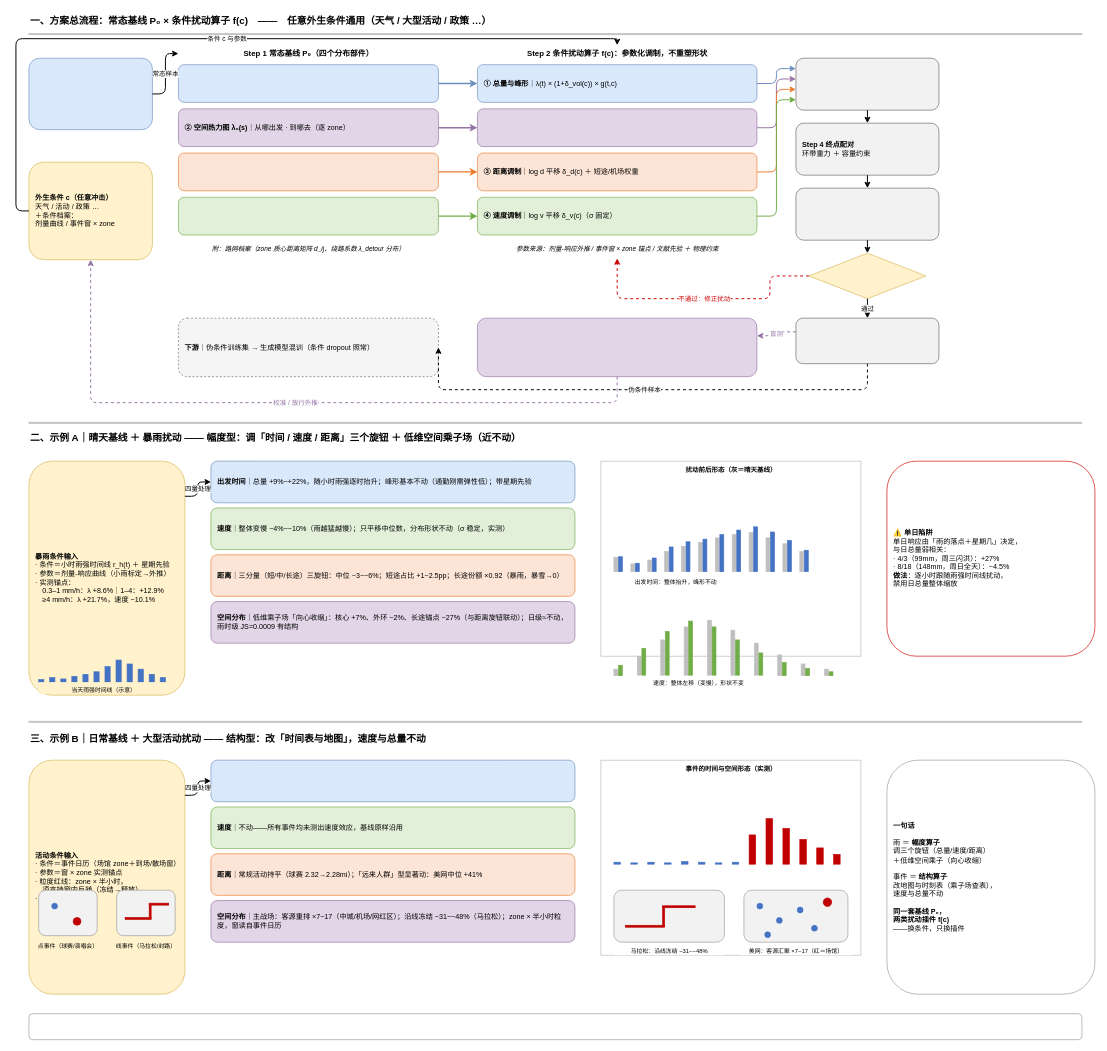
The diagram is 1107 pixels wide and 1051 high, and some of its shapes have lost their labels. The shapes that lost their labels are listed below. From the top down, each one's centre as x and y in pixels, then its label:
At (90,94): "常态行程大数据 时刻 / 起终点 / 里程 / 时长 （例：纽约 TLC 2.61 亿行）".
At (308,83): "① 时间节律 λ₀(t) ｜何时出发（周内×小时剖面）".
At (867,84): "Step 3 采样合成 t, s, d, v → dur=d/v（三角一致）".
At (617,127): "② 乘子场 γ(s,c) ｜雨＝低维向心收缩（核心+7%/锚点−27%）；事件＝查表；崩溃＝挖洞".
At (308,171): "③ 距离分布 P₀(d) ｜走多远（多峰混合分布）".
At (308,216): "④ 速度分布 P₀(v|t) ｜多快（中位数随时刻，形状稳定）".
At (867,214): "Step 5 三道闸 三角一致 / 容量 / 分布 sanity".
At (867,276): "通过？".
At (617,347): "替身验证 ｜用可观测条件盲测（四量 KS/JS ＋ 总量 MAPE） 通过才放行外推；空间检验须做「雨时级」（日级会洗掉信号）".
At (867,341): "输出：条件 c 下的轨迹集 （附外推置信区间）".
At (392,781): "出发时间 ｜总量几乎不动（球赛 +2%）；窗内剧变：散场 ×1.1 脉冲、跨年封街 ×0.004 冻结 → ×3.0 释放".
At (711,871): "跨年夜时代广场：封街冻结（×0.004）→ 午夜释放（×3.0）".
At (555,1026): "色彩约定（贯穿三节） ：蓝＝出发时间 ｜ 紫＝空间分布 ｜ 橙＝行程距离 ｜ 绿＝速度 ｜ 黄＝条件输入 ｜ 灰＝通用流程 ｜ 小图＝实测/示意形态".
